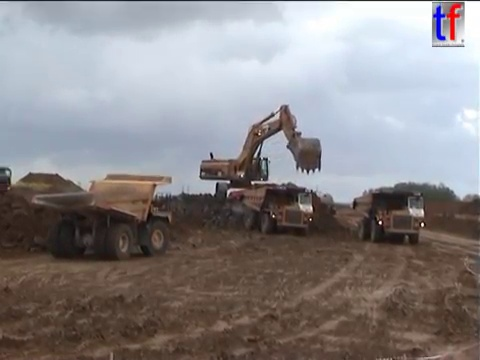excavator: (197, 102, 324, 205), (226, 180, 304, 210)
truck: (29, 172, 175, 262), (235, 183, 316, 235), (351, 190, 426, 245), (308, 192, 336, 217), (1, 163, 13, 197)
